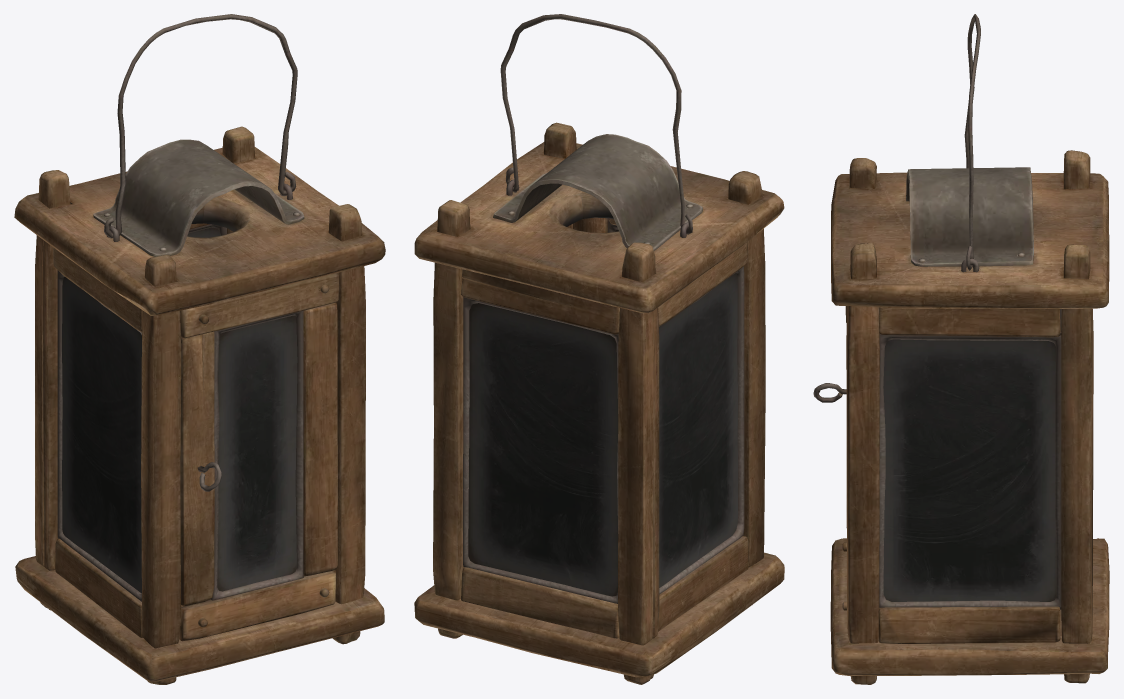
File: wooden_lantern_01.glb
3 renders of one model, left to right at view 1: azimuth 30°, elevation 25°; view 2: azimuth 150°, elevation 25°; view 3: azimuth 270°, elevation 25°, orthographic.
Visible parts, largest first — view 1: wooden_lantern_01; view 2: wooden_lantern_01; view 3: wooden_lantern_01.
Boxes of the visible parts, x1,y1,x2,y2 form: wooden_lantern_01: [14, 14, 385, 684]; wooden_lantern_01: [414, 14, 784, 684]; wooden_lantern_01: [813, 14, 1109, 684].
Size of the model in its own units: 0.2211 by 0.5296 by 0.2347.
Materials: 2 (2 with a texture image).
